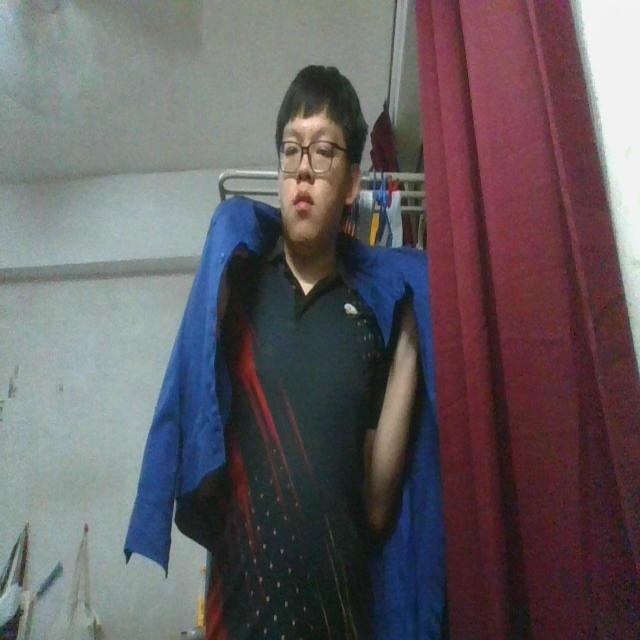person_without_labcoat: (124, 66, 444, 639)
